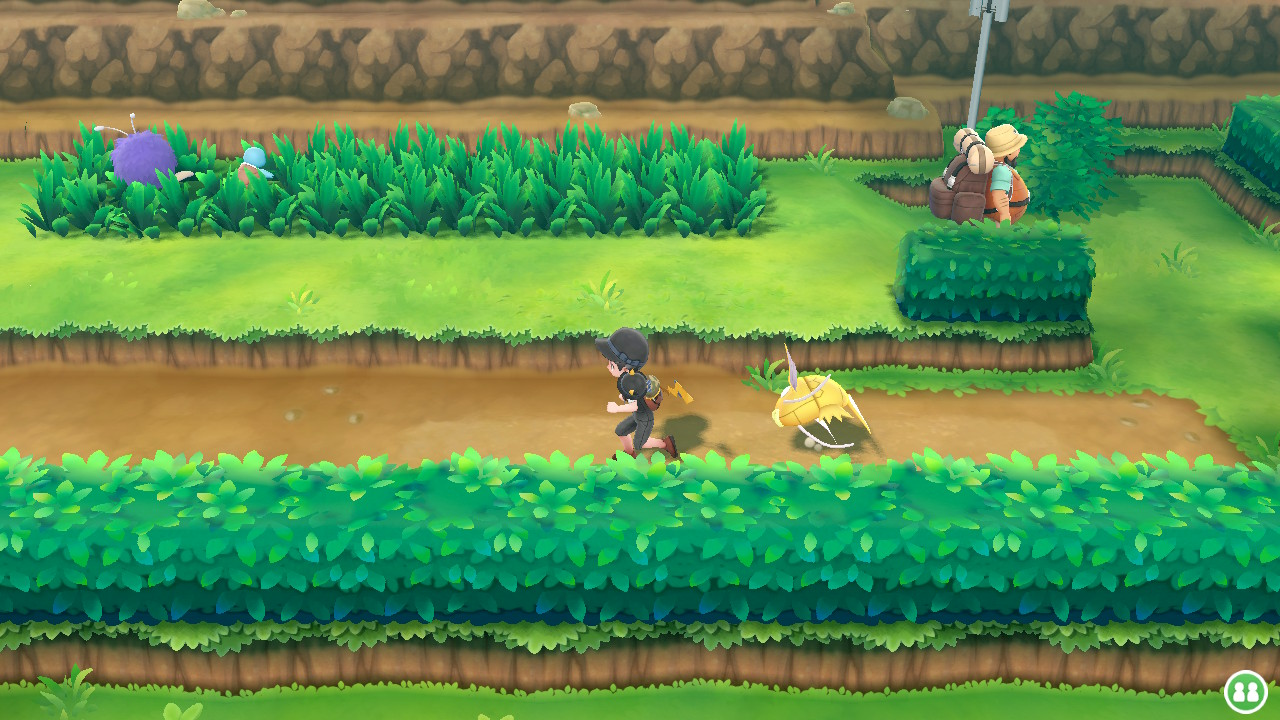Golden: (757, 357, 874, 448)
